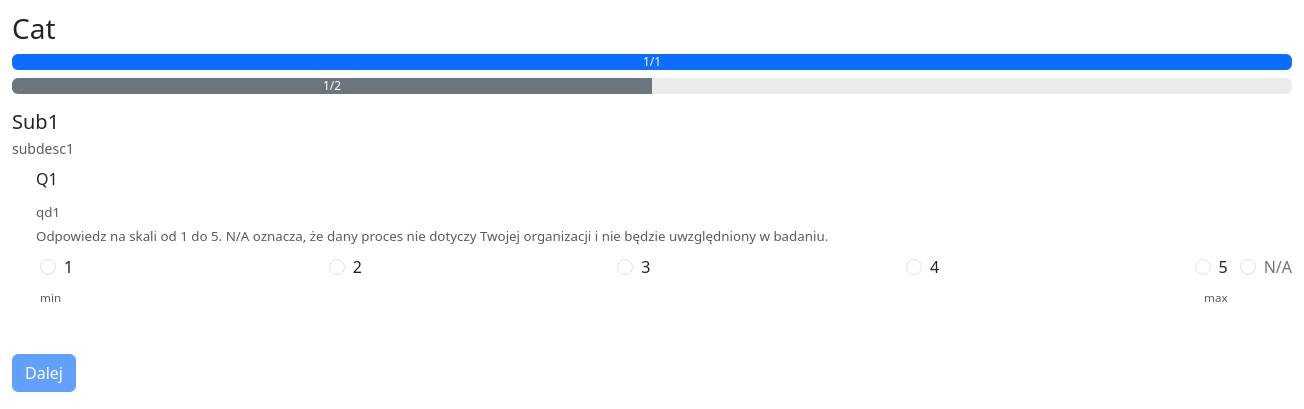
Test case: CategoryQuestionsForm › shows one subcategory at a time and allows navigation
Check: the text "subdesc1" is shown, box [12,139,74,158]
Check: the text "subdesc2" is not shown
// answer first subcategory and go next
Click the radio button labelled "1" at (48, 267), box [40,259,56,275]
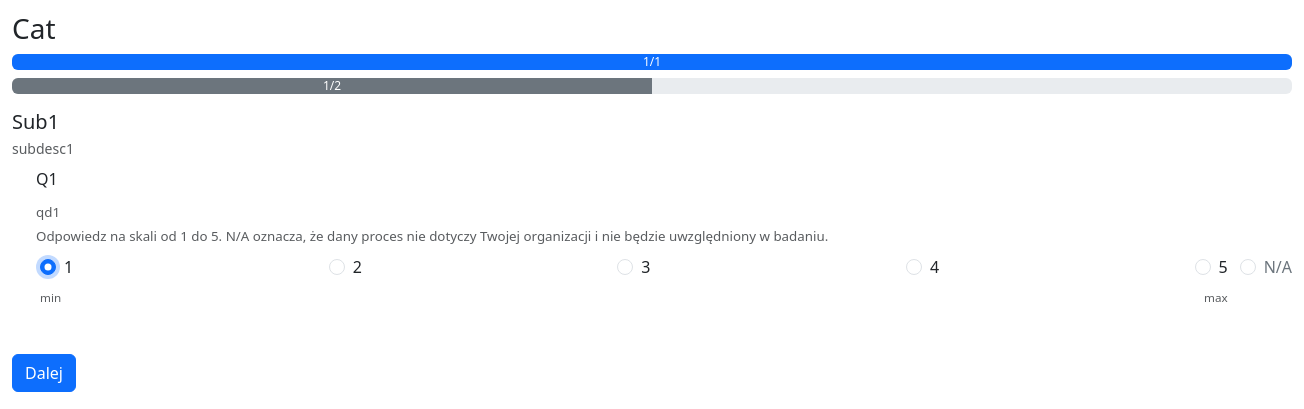
Click the button "Dalej" at (44, 373), box [12,354,76,392]
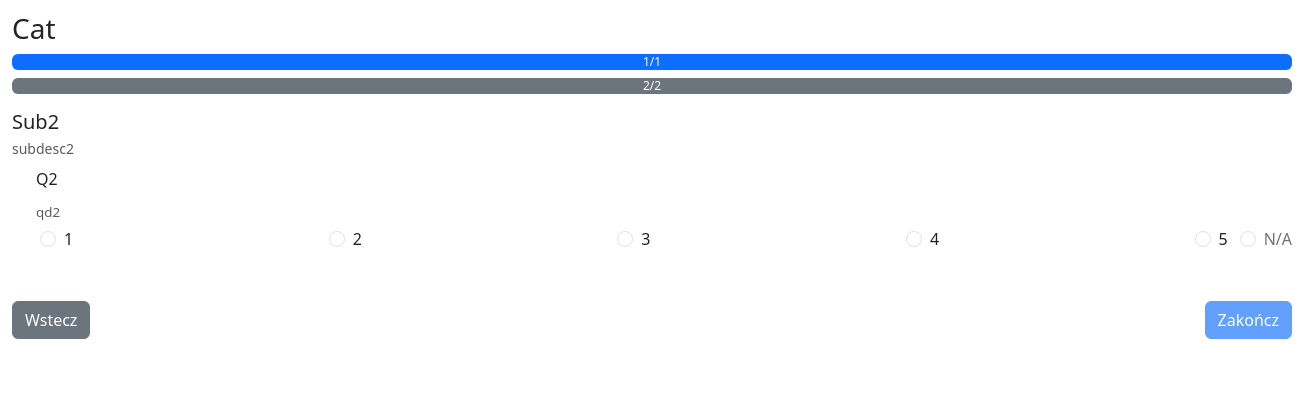
Check: the text "subdesc2" is shown, box [12,139,74,158]
